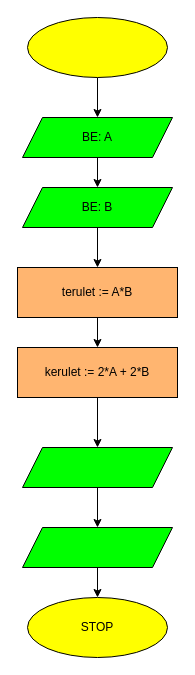
The diagram is 195 pixels wide and 675 high, and some of its shapes have lost their labels. Here are the shapes that lost their labels. From the top down, the centre of each, then its label:
pixel 97 47: START
pixel 97 467: KI: terulet
pixel 97 547: KI: kerulet
